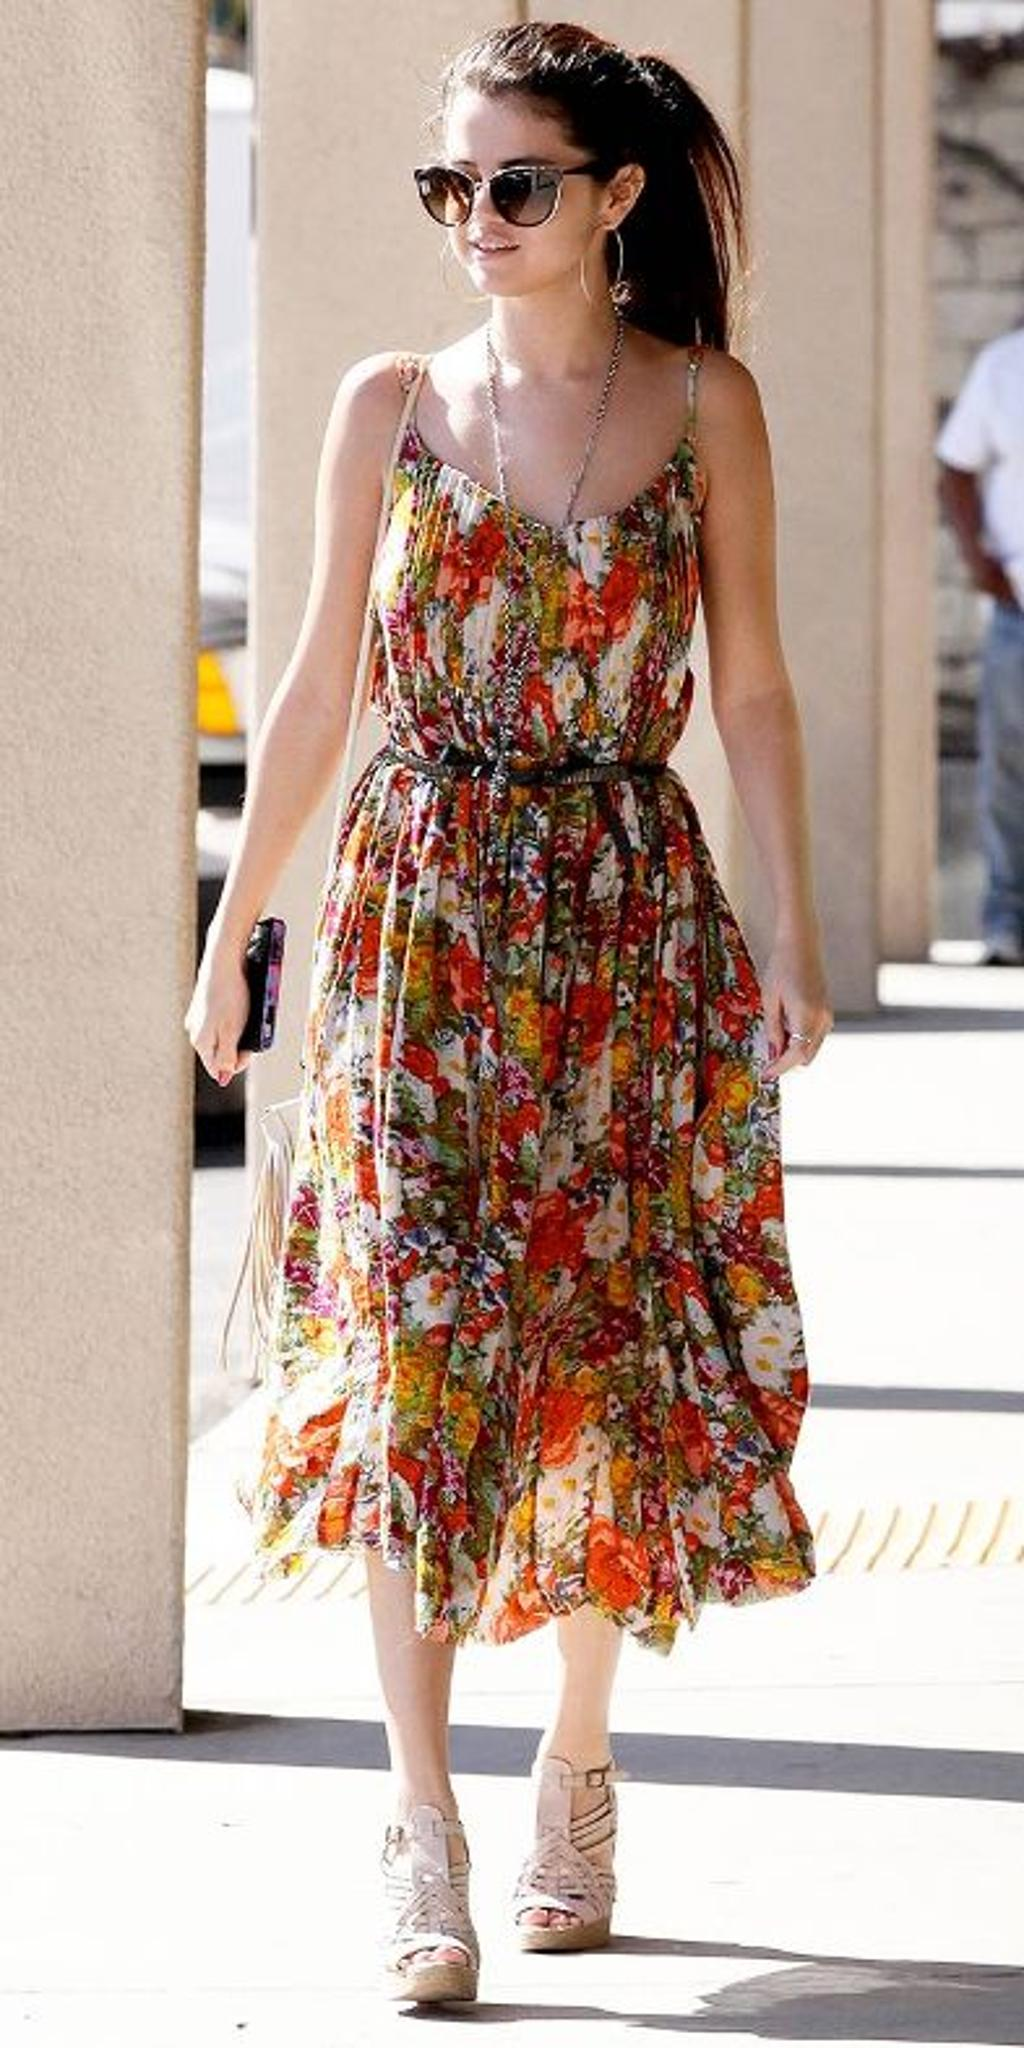face: (448, 88, 604, 300)
